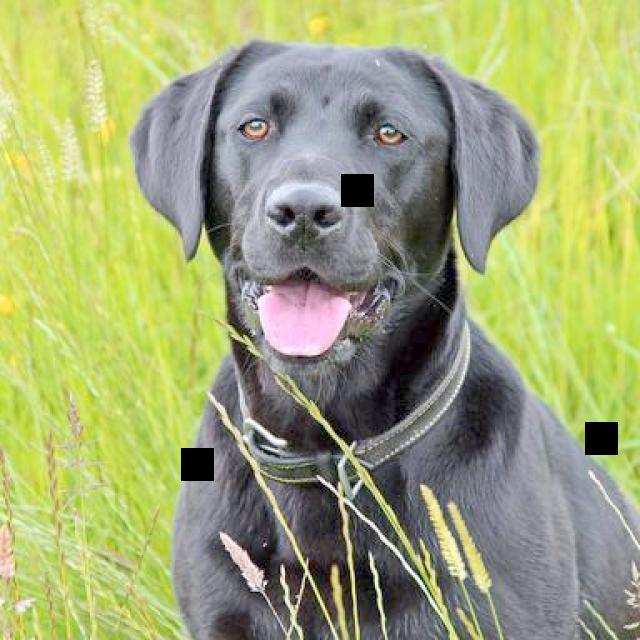adult_dog: (129, 36, 640, 640)
